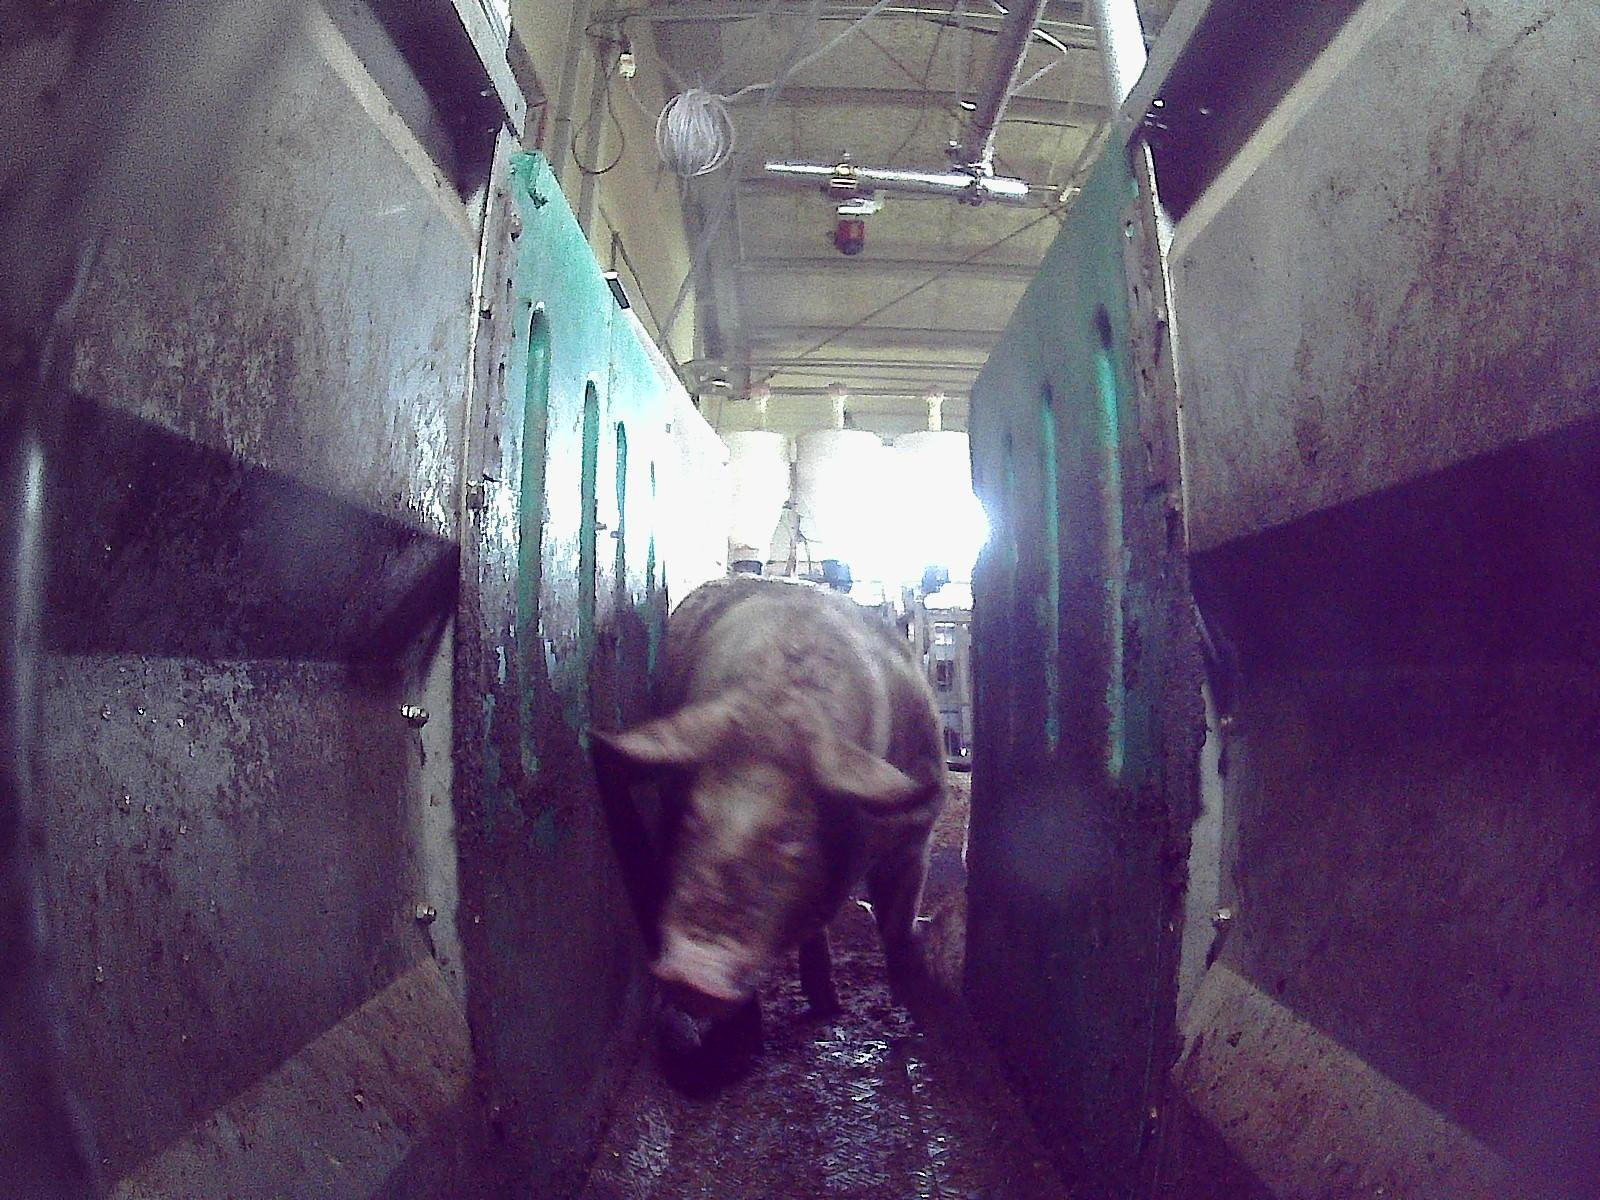Face: (652, 695, 859, 1014)
